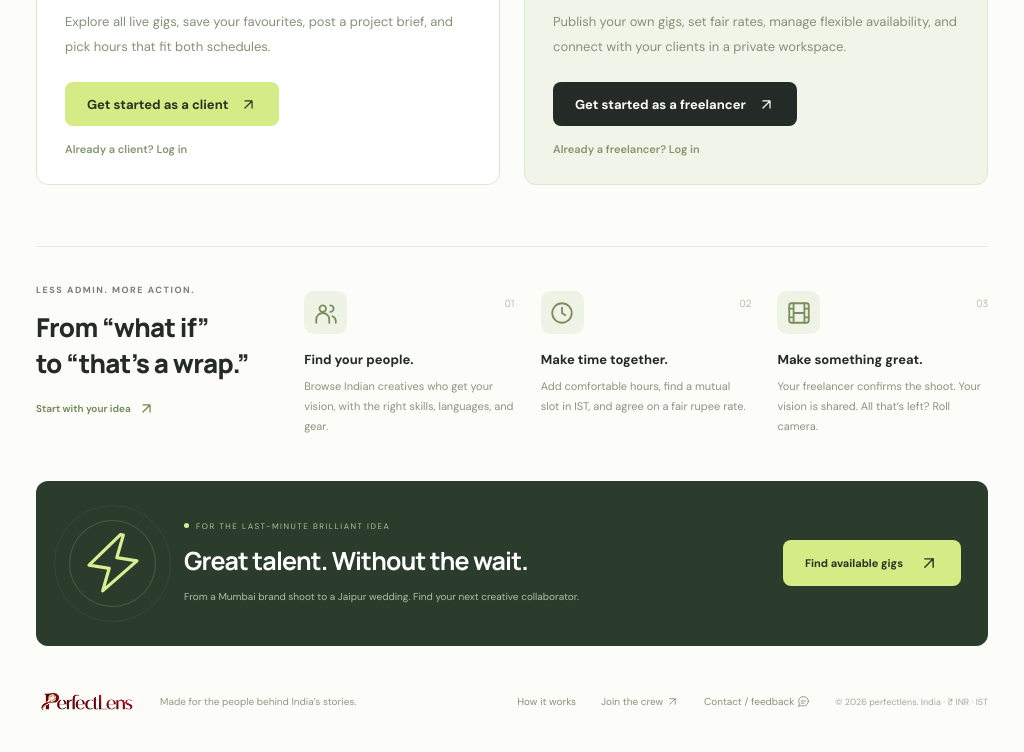
Test: visitors can send a query through the public contact form
(page scrolled)
Click the button "Contact / feedback" at [757, 702], box [704,695,810,708]
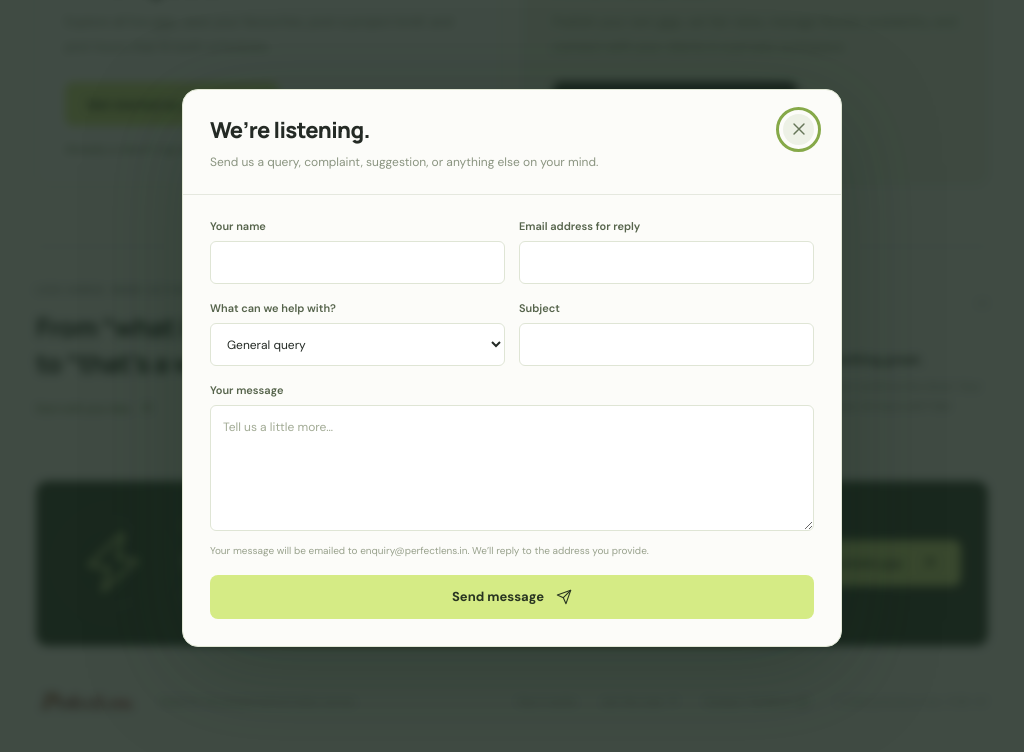
Type "Aditi Verma" into the field labelled "Your name" at [358, 263], box [210,241,505,284]
Type "aditi@example.in" into the field labelled "Email address for reply" at [666, 263], box [519,241,814,284]
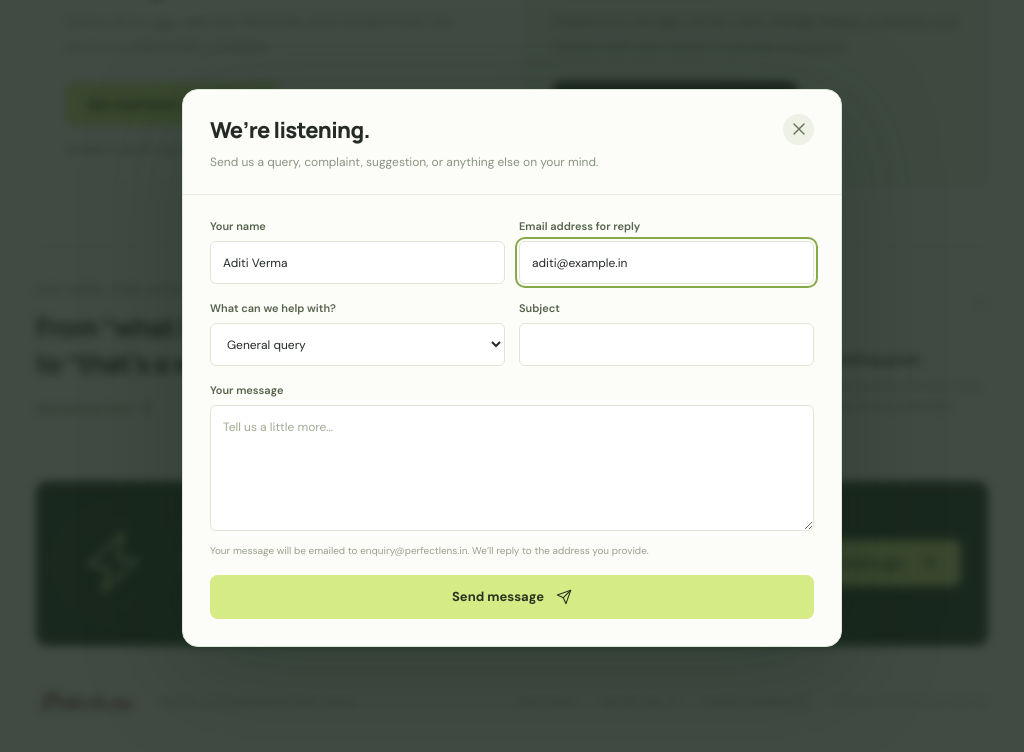
Select "Suggestion" in the dropdown labelled "What can we help with?" at [358, 345], box [210,323,505,366]
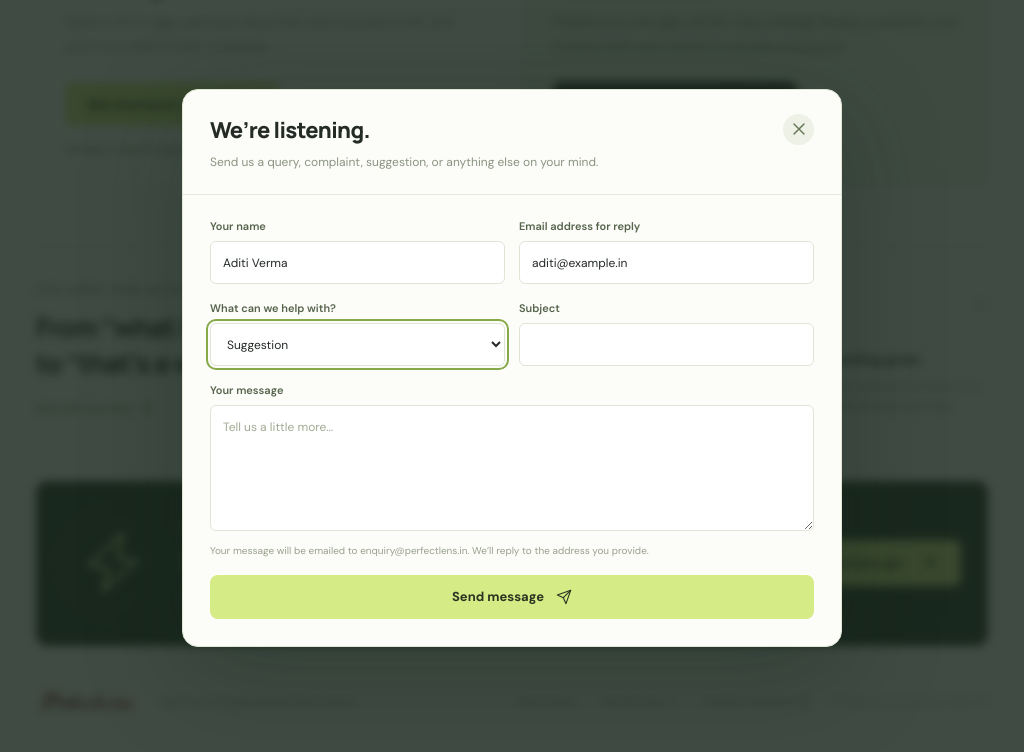
Type "A thought about the marketplace" into the field labelled "Subject" at [666, 345], box [519,323,814,366]
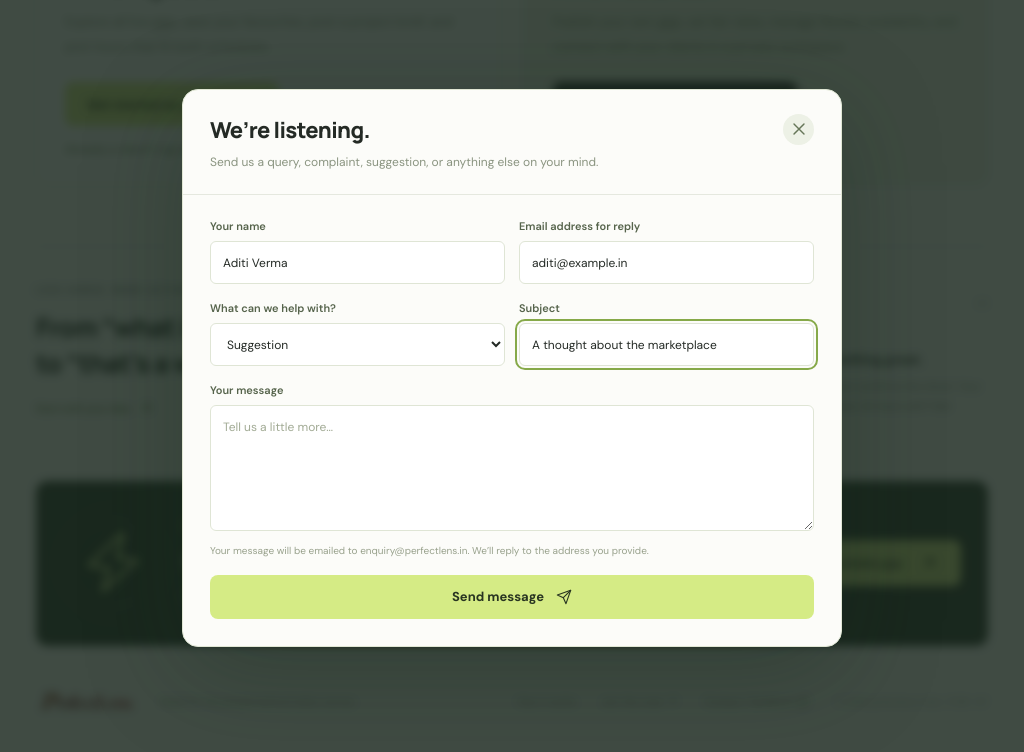
Type "It would be helpful to add a way to share favorite gigs." into the text box labelled "Your message" at [512, 468], box [210,405,814,531]
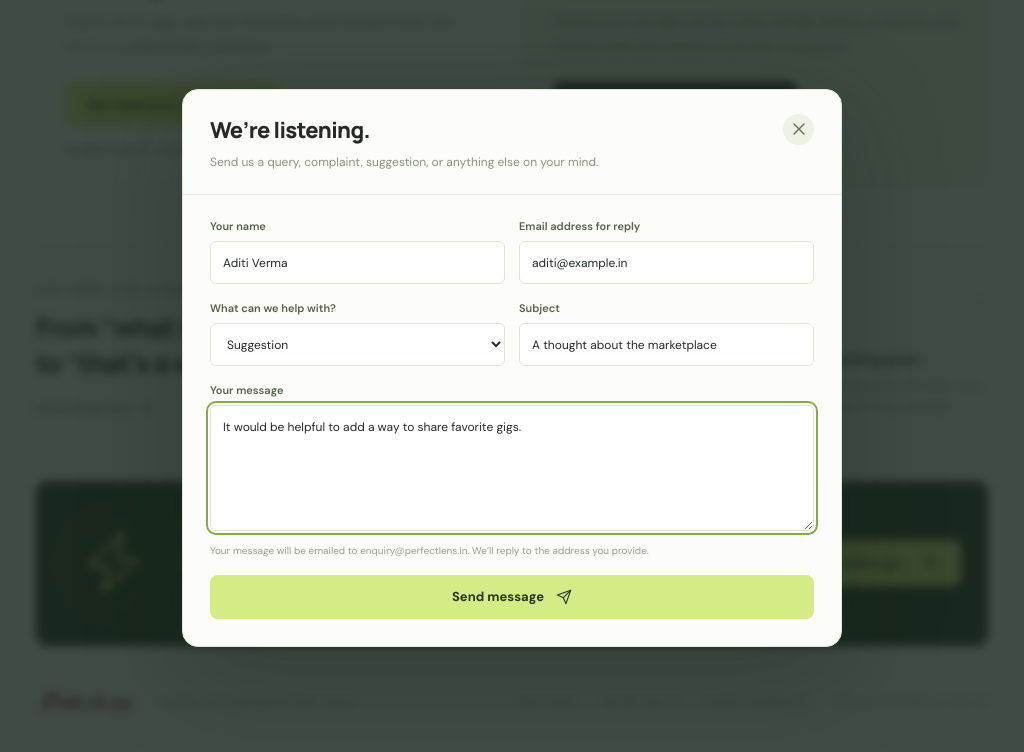
Click the button "Send message" at [512, 597], box [210,575,814,619]
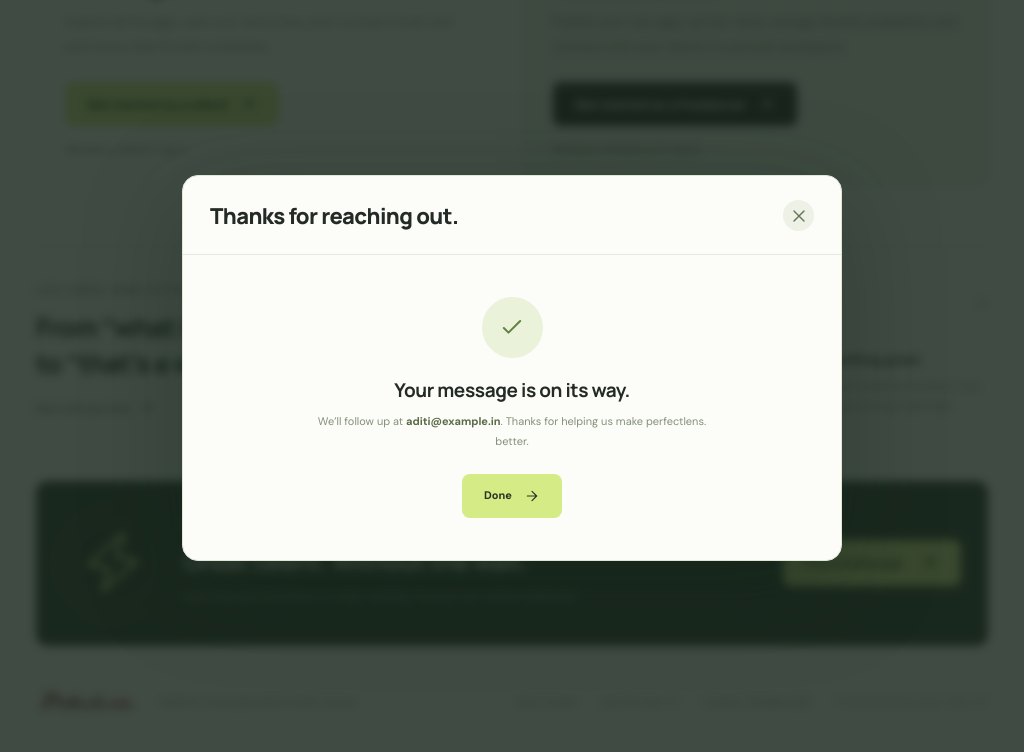
Expected: the heading "Thanks for reaching out." is shown, [210,201,458,232]
